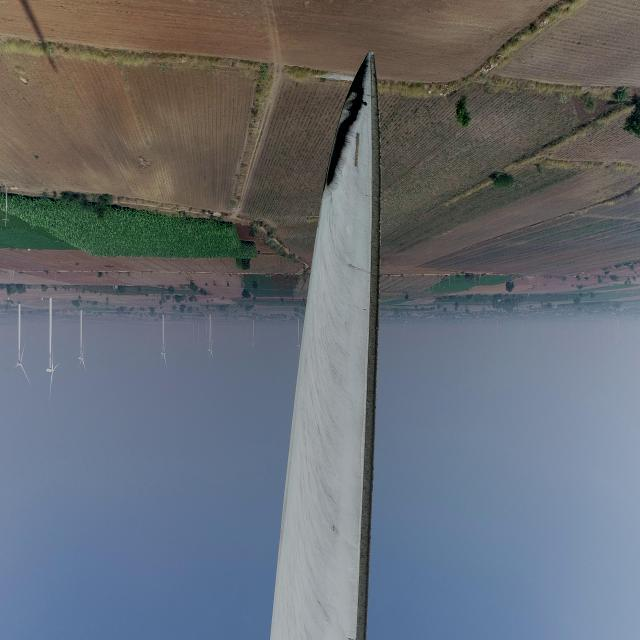Dirt: (266, 54, 385, 640)
Oil LEAKAGE: (316, 50, 371, 190)
Pin Hole: (359, 98, 372, 111)
